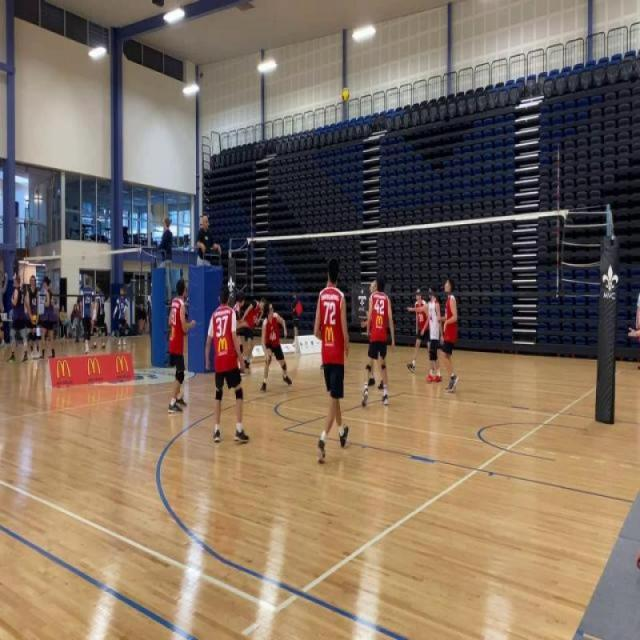volleyball: (340, 86, 350, 104), (31, 314, 38, 326)
